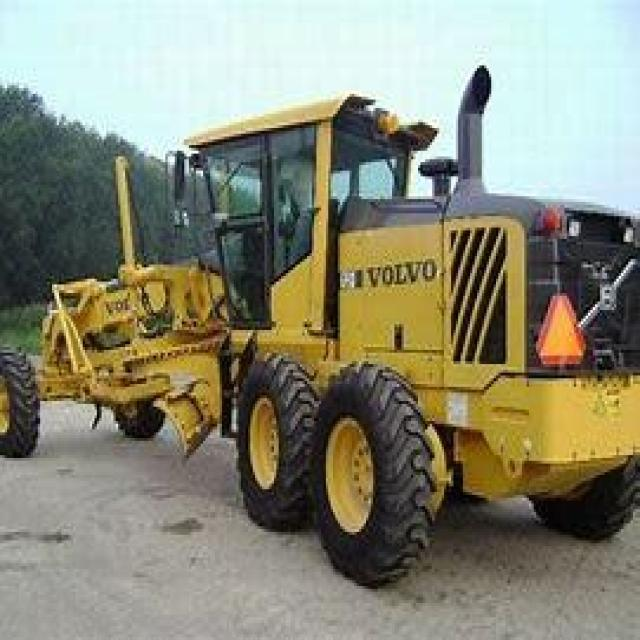buldozerpayloadergrader: (2, 82, 638, 594)
